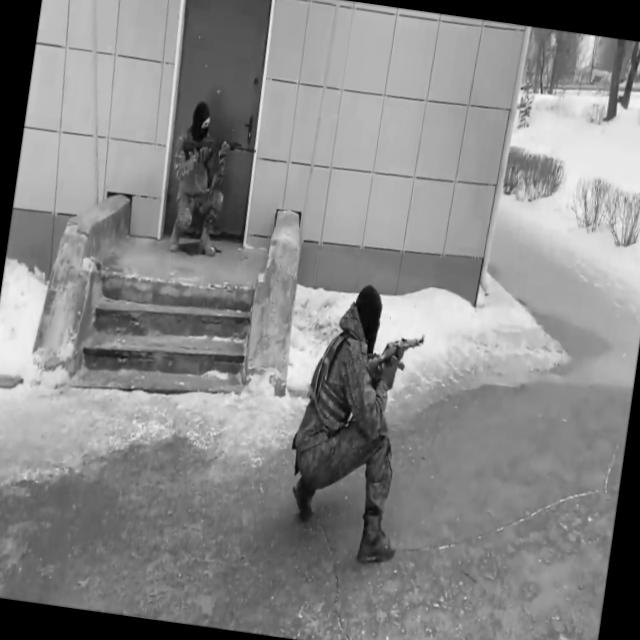gun: (363, 325, 426, 391), (180, 134, 258, 176), (384, 354, 406, 381)
person with a gun: (279, 278, 432, 568), (162, 100, 262, 262)
